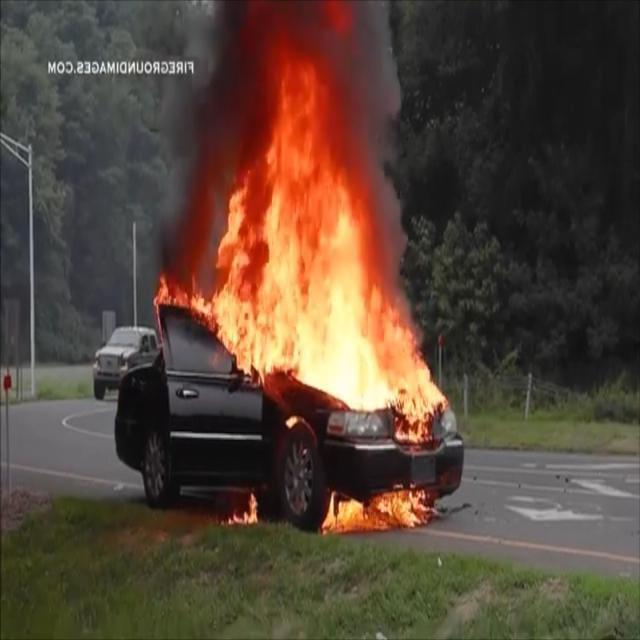fire: (175, 2, 446, 461), (215, 486, 436, 558)
